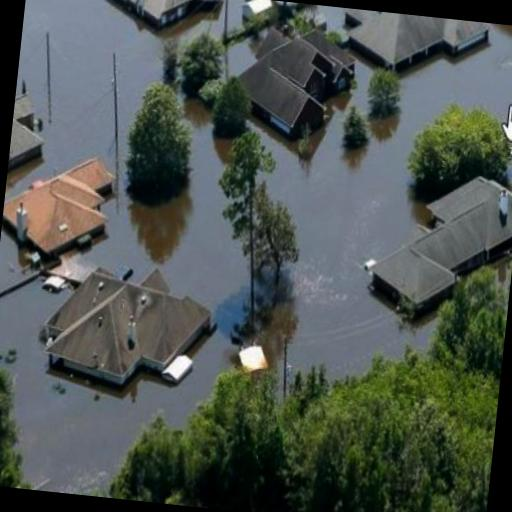flood: (0, 0, 512, 495), (315, 5, 350, 42), (228, 39, 257, 76), (227, 0, 244, 35)
house: (357, 168, 512, 327), (38, 266, 219, 400), (226, 22, 358, 151), (0, 142, 122, 262), (342, 8, 488, 84), (100, 0, 234, 40), (6, 85, 54, 181)
